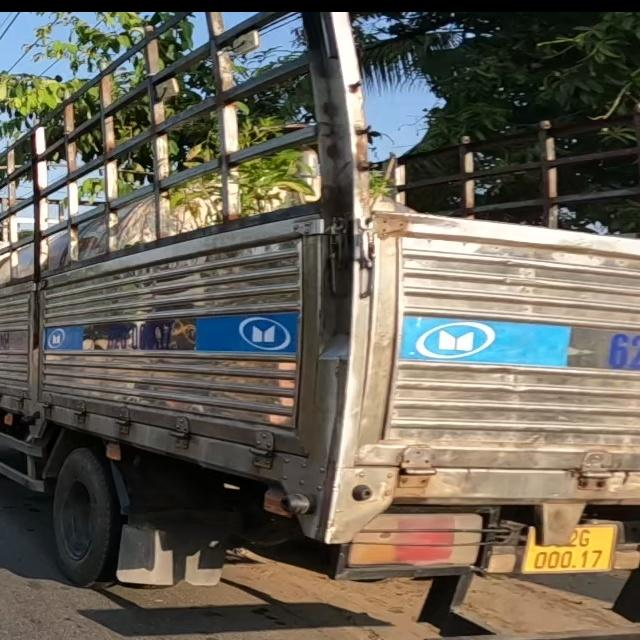license-plate: (519, 524, 618, 575)
